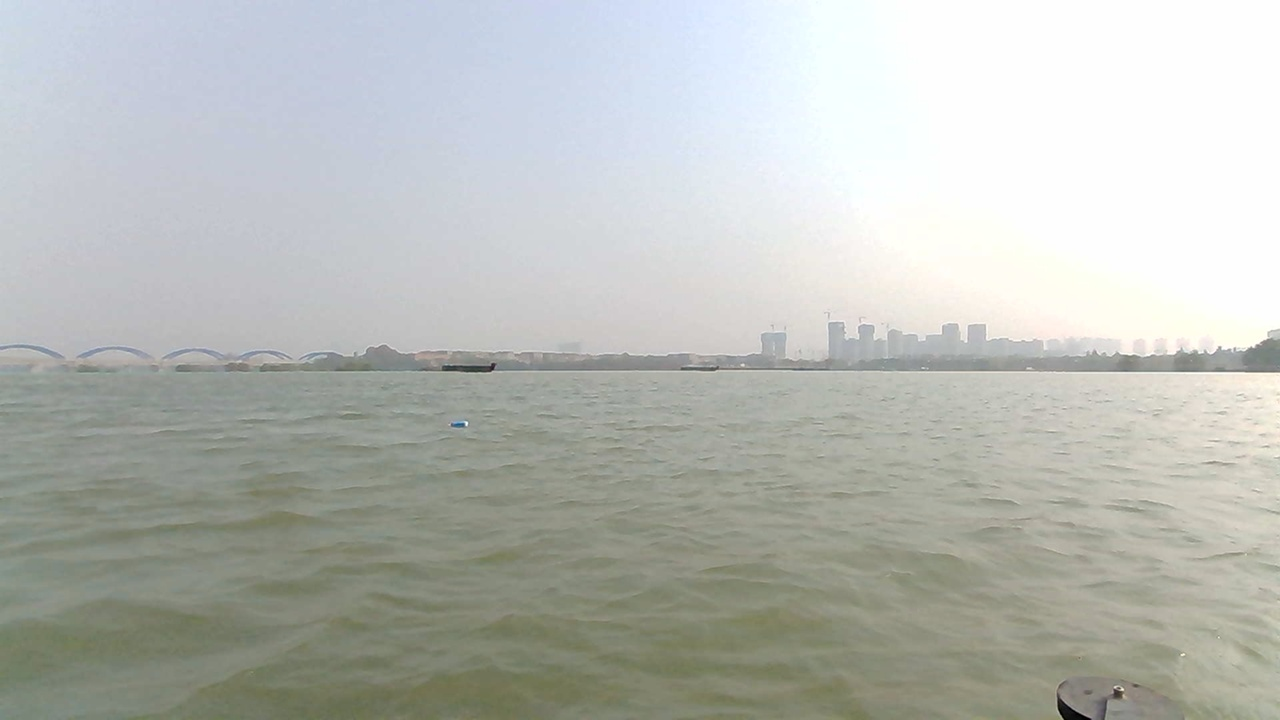bottle: (445, 418, 474, 432)
